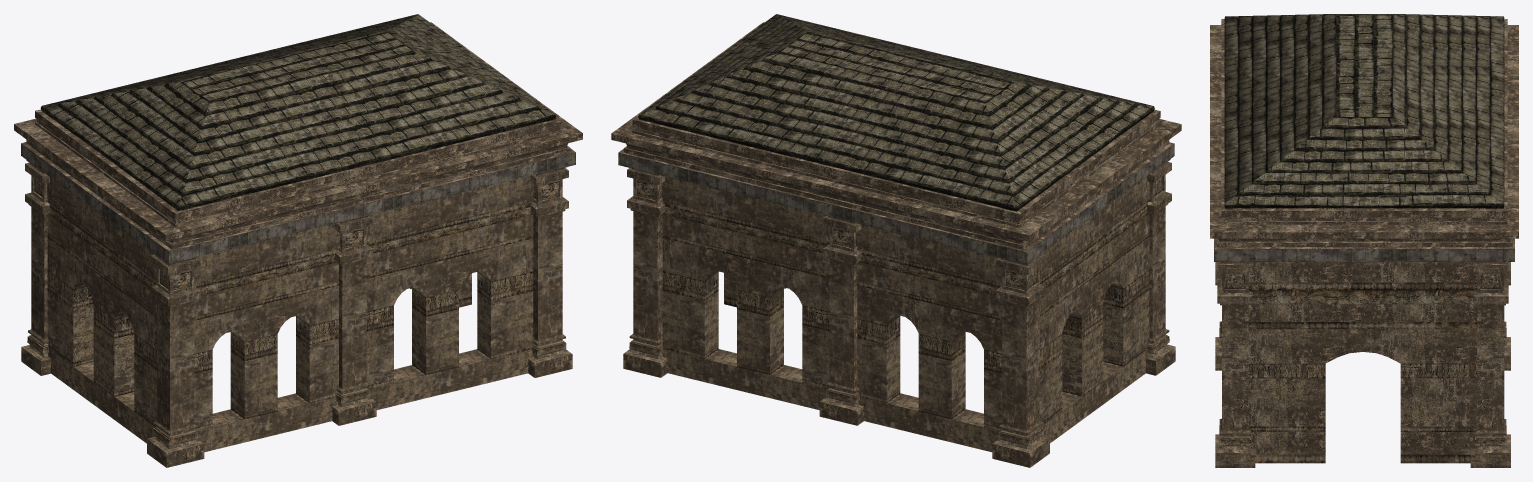
The model's file is materials_5_building_8.fbx.
3 views of the same model, side by side, from view 1: azimuth 30°, elevation 25°; view 2: azimuth 150°, elevation 25°; view 3: azimuth 270°, elevation 25° (orthographic).
Parts seen in each view (by area): view 1: materials_5_building_8; view 2: materials_5_building_8; view 3: materials_5_building_8.
Part boxes in pixels (bbox=[...]): materials_5_building_8: bbox=[14, 14, 582, 467]; materials_5_building_8: bbox=[611, 14, 1181, 467]; materials_5_building_8: bbox=[1210, 14, 1518, 467].
Bounding box in the file's own units: 1128 × 767 × 711.
